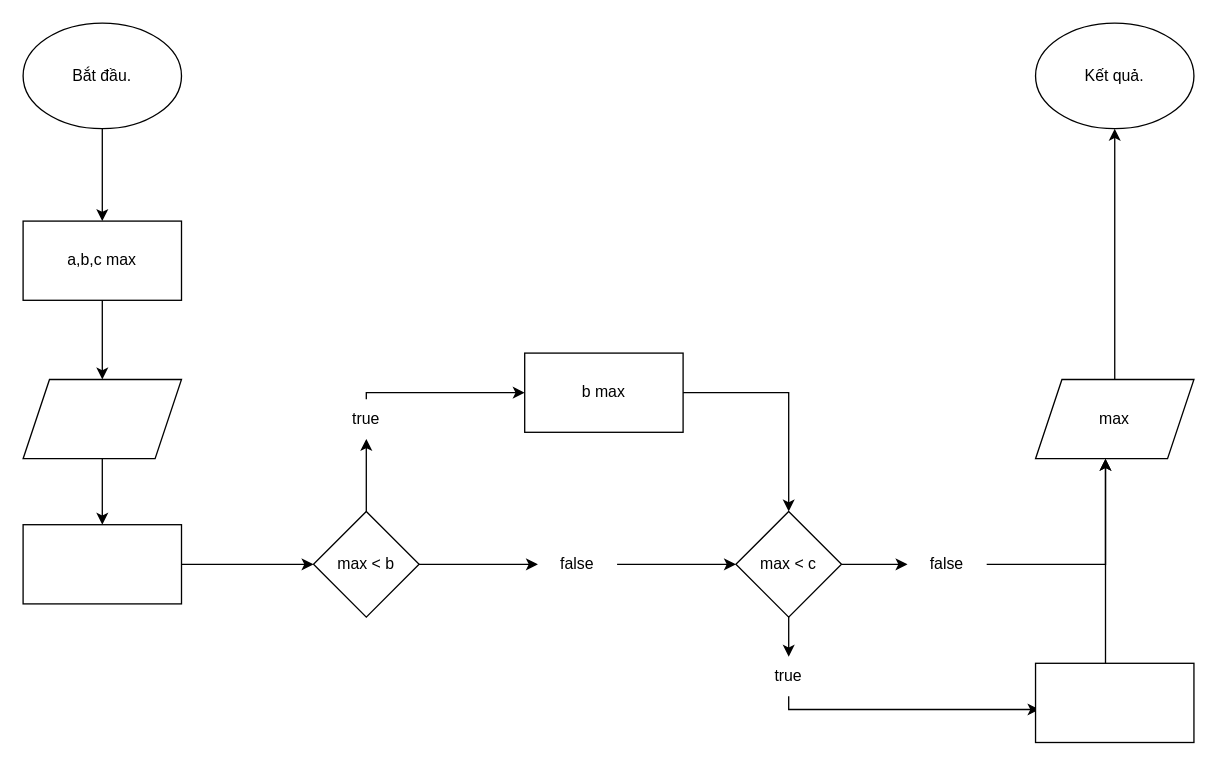
Image size: 1217x766. Some labels were removed from this diagram. The centre of each missing label's shape, as x and y in pixels:
a max: (x=102, y=563)
a,b,c: (x=102, y=418)
c max: (x=1114, y=702)
